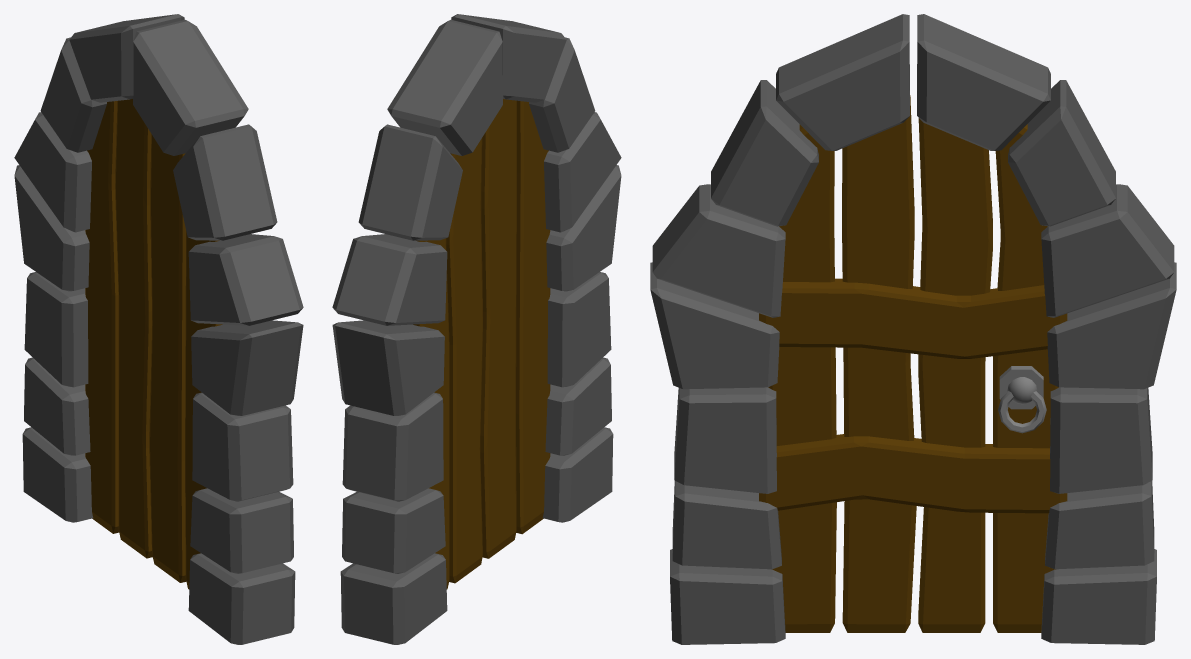
The model's file is Door.fbx.
3 views of the same model, side by side, from view 1: azimuth 30°, elevation 25°; view 2: azimuth 150°, elevation 25°; view 3: azimuth 270°, elevation 25° (orthographic). The views are drawn at different scales.
Parts seen in each view (by area): view 1: Frame, Door; view 2: Frame, Door; view 3: Frame, Door.
Boxes of the visible parts, left/top/right/bottom form: Frame: left=14, top=14, right=303, bottom=644; Door: left=85, top=99, right=222, bottom=589; Frame: left=332, top=14, right=621, bottom=644; Door: left=413, top=99, right=550, bottom=589; Frame: left=650, top=14, right=1176, bottom=644; Door: left=759, top=95, right=1067, bottom=632.
Size of the model in its own units: 44.81 by 363 by 287.
